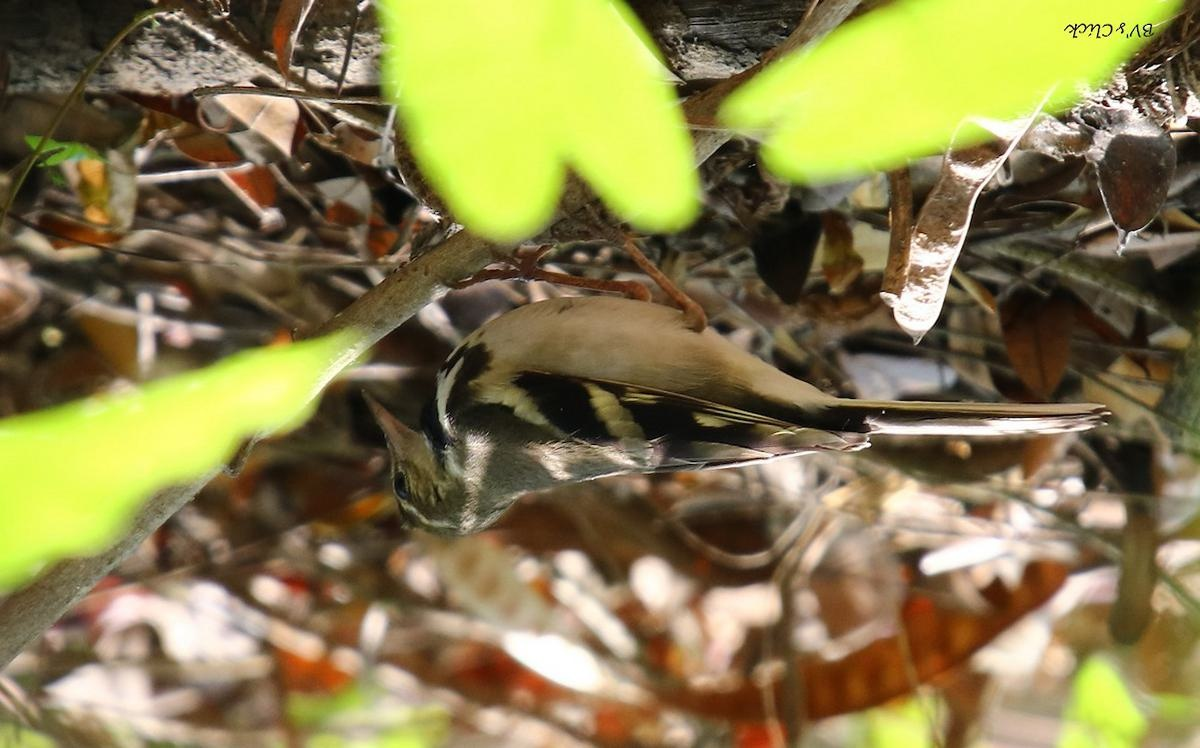wagtail: (373, 295, 1053, 557)
